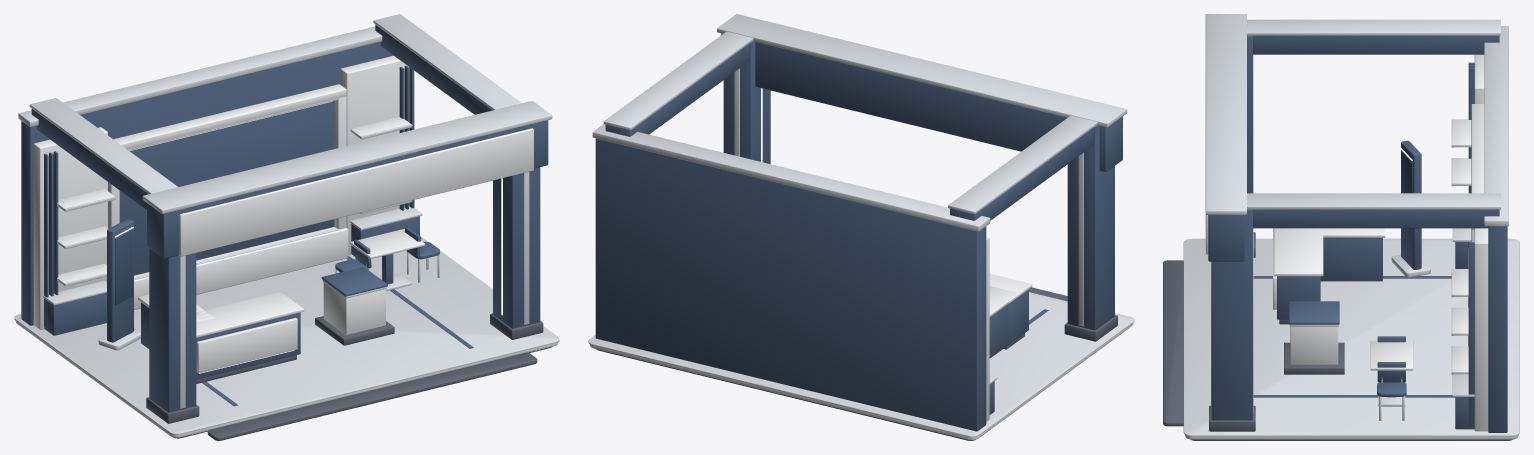
The model's file is booth_03_grand_portal_v27_3.glb.
3 views of the same model, side by side, from view 1: azimuth 30°, elevation 25°; view 2: azimuth 150°, elevation 25°; view 3: azimuth 270°, elevation 25° (orthographic). The views are drawn at different scales.
Parts seen in each view (by area): view 1: V273_Booth03_GrandPortal_Portal_Brushed_Silver, V273_Booth03_GrandPortal_Portal_Executive_Navy, V273_Booth03_GrandPortal_Portal_Crisp_White, V273_Booth03_GrandPortal_Portal_Dark_Slate, V273_Booth03_GrandPortal_Portal_Light_Granite, V273_Booth03_GrandPortal_Portal_Digital_Glass, V273_Booth03_GrandPortal_Portal_Cool_LED; view 2: V273_Booth03_GrandPortal_Portal_Executive_Navy, V273_Booth03_GrandPortal_Portal_Brushed_Silver, V273_Booth03_GrandPortal_Portal_Light_Granite, V273_Booth03_GrandPortal_Portal_Crisp_White, V273_Booth03_GrandPortal_Portal_Dark_Slate; view 3: V273_Booth03_GrandPortal_Portal_Brushed_Silver, V273_Booth03_GrandPortal_Portal_Executive_Navy, V273_Booth03_GrandPortal_Portal_Crisp_White, V273_Booth03_GrandPortal_Portal_Dark_Slate, V273_Booth03_GrandPortal_Portal_Light_Granite, V273_Booth03_GrandPortal_Portal_Digital_Glass.
Part boxes in pixels (<box>): V273_Booth03_GrandPortal_Portal_Brushed_Silver: <box>14,14,559,434</box>; V273_Booth03_GrandPortal_Portal_Executive_Navy: <box>21,25,548,412</box>; V273_Booth03_GrandPortal_Portal_Crisp_White: <box>33,55,533,373</box>; V273_Booth03_GrandPortal_Portal_Dark_Slate: <box>146,313,551,440</box>; V273_Booth03_GrandPortal_Portal_Light_Granite: <box>15,321,558,437</box>; V273_Booth03_GrandPortal_Portal_Digital_Glass: <box>115,229,133,305</box>; V273_Booth03_GrandPortal_Portal_Cool_LED: <box>114,101,539,434</box>; V273_Booth03_GrandPortal_Portal_Executive_Navy: <box>595,33,1122,431</box>; V273_Booth03_GrandPortal_Portal_Brushed_Silver: <box>588,14,1134,437</box>; V273_Booth03_GrandPortal_Portal_Light_Granite: <box>589,323,1133,440</box>; V273_Booth03_GrandPortal_Portal_Crisp_White: <box>986,237,1032,421</box>; V273_Booth03_GrandPortal_Portal_Dark_Slate: <box>596,287,1117,440</box>; V273_Booth03_GrandPortal_Portal_Brushed_Silver: <box>1183,14,1519,436</box>; V273_Booth03_GrandPortal_Portal_Executive_Navy: <box>1208,35,1507,432</box>; V273_Booth03_GrandPortal_Portal_Crisp_White: <box>1205,54,1488,431</box>; V273_Booth03_GrandPortal_Portal_Dark_Slate: <box>1163,232,1512,440</box>; V273_Booth03_GrandPortal_Portal_Light_Granite: <box>1185,435,1518,439</box>; V273_Booth03_GrandPortal_Portal_Digital_Glass: <box>1401,150,1412,230</box>.
Size of the model in its own units: 7.22 by 3.98 by 5.52.
